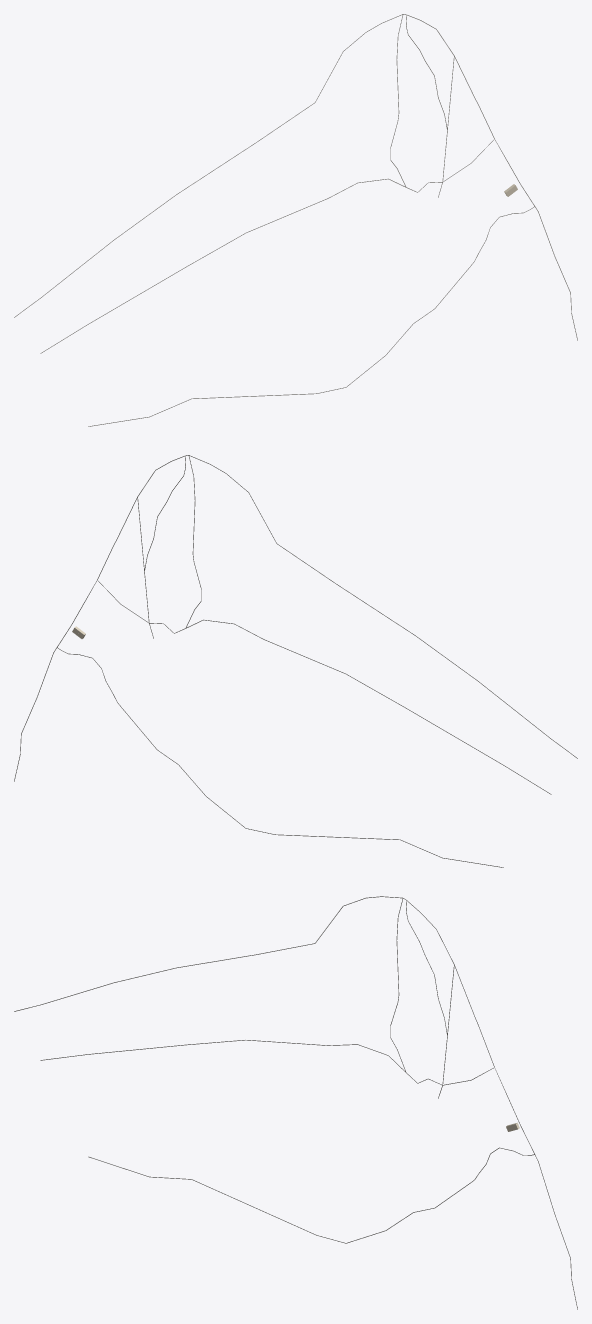
File: historic-palestine-16_36_3578_3308.glb
The picture shows the model from 3 angles, top to bottom: view 1: azimuth 30°, elevation 25°; view 2: azimuth 150°, elevation 25°; view 3: azimuth 330°, elevation 25°; orthographic projection.
Parts seen in each view (by area): view 1: Road .001, Road; view 2: Road .001, Road; view 3: Road .001, Road.
Boxes of the visible parts, x1=… form: Road .001: x1=40, y1=139, x2=577, y2=353; Road: x1=14, y1=14, x2=494, y2=317; Road .001: x1=14, y1=580, x2=551, y2=794; Road: x1=97, y1=455, x2=577, y2=758; Road .001: x1=40, y1=1040, x2=577, y2=1309; Road: x1=14, y1=896, x2=494, y2=1067.
Size of the model in its own units: 1348 by 844 by 8.7.
